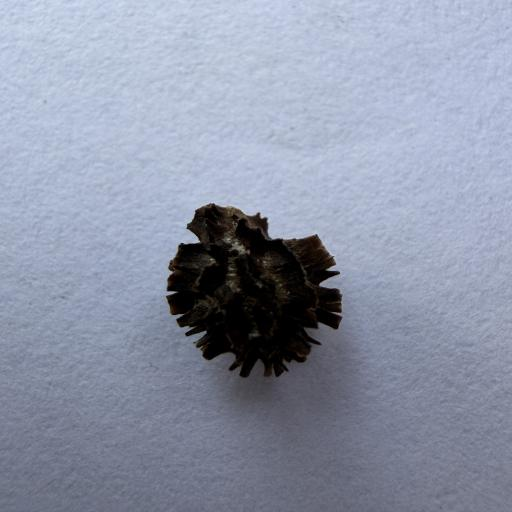papaya_seed: (154, 190, 371, 384)
